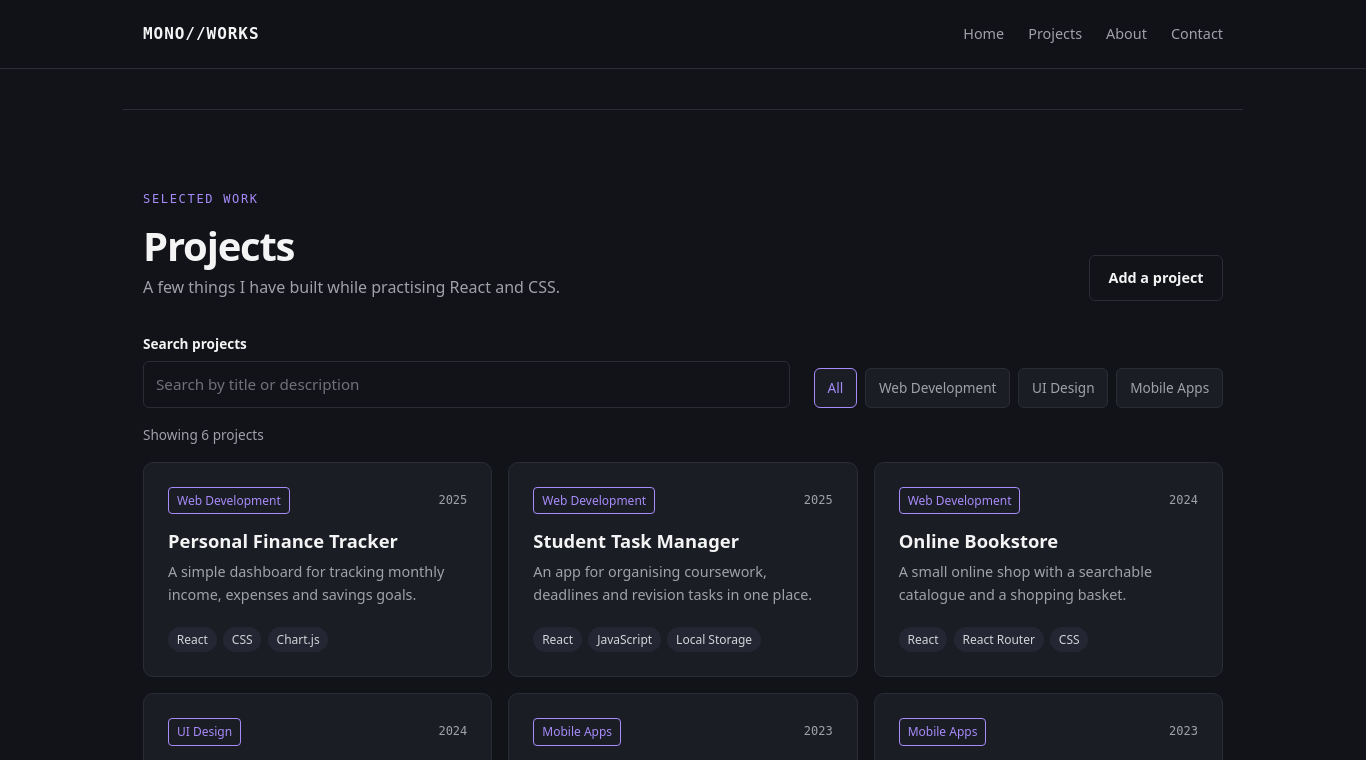
Test case: combines search and category filters and shows an empty state
The width and height of the screenshot is (1366, 760).
(page scrolled)
Type "recipe" into the search field labelled "Search projects" at (466, 384), box [143, 361, 790, 408]
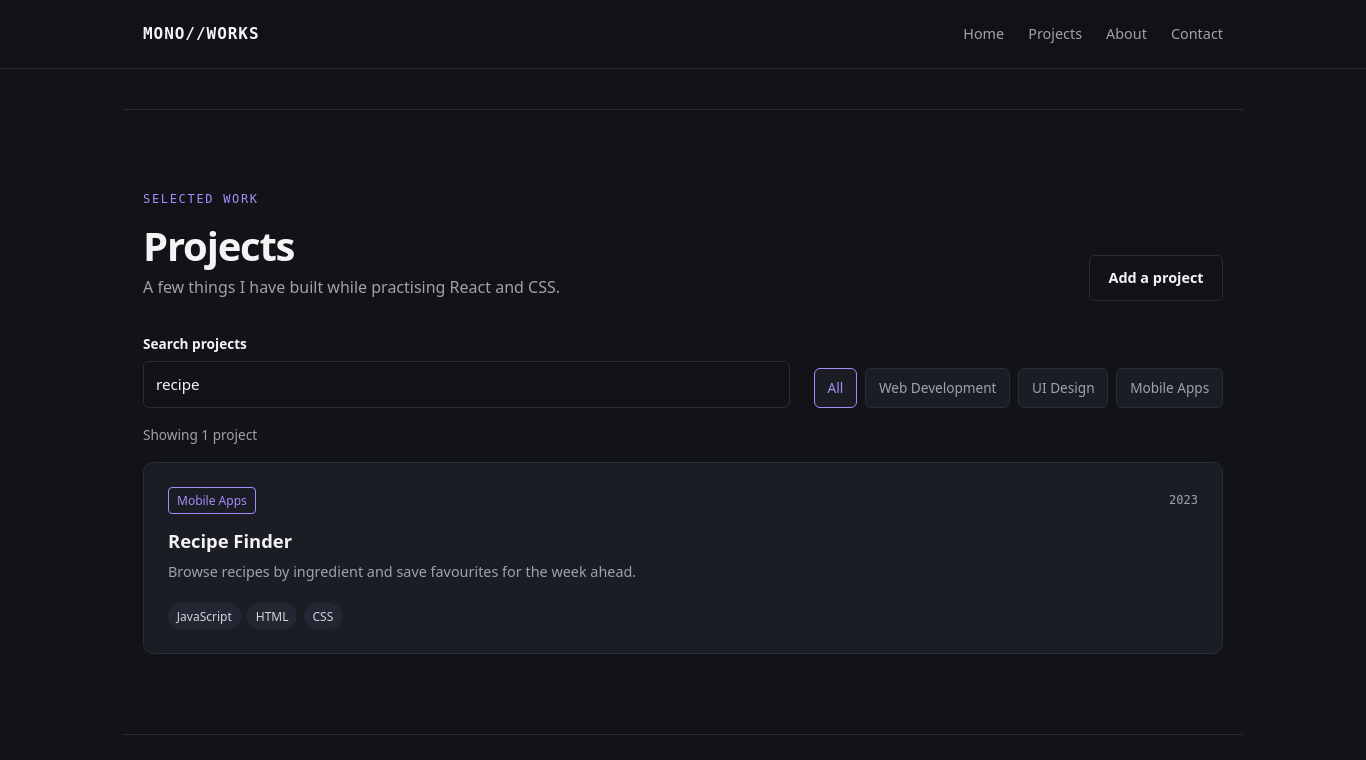
Expected: the heading "Recipe Finder" is shown, [168, 528, 292, 553]
Now the text "Showing 1 project" is shown, box [143, 425, 257, 444]
Click the button "UI Design" at (1063, 388), box [1018, 368, 1108, 408]
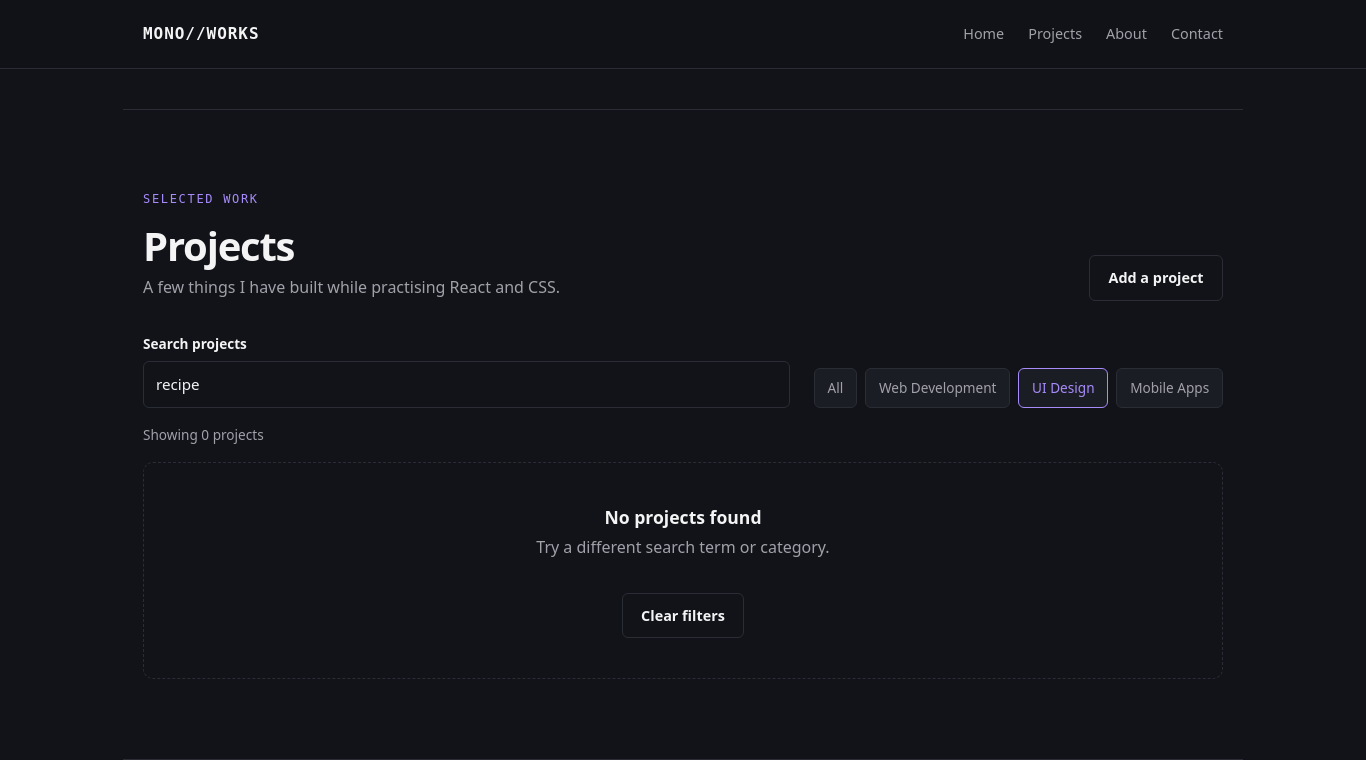
Now the text "No projects found" is shown, box [604, 505, 762, 529]
Click the button "Clear filters" at (683, 615), box [622, 592, 744, 638]
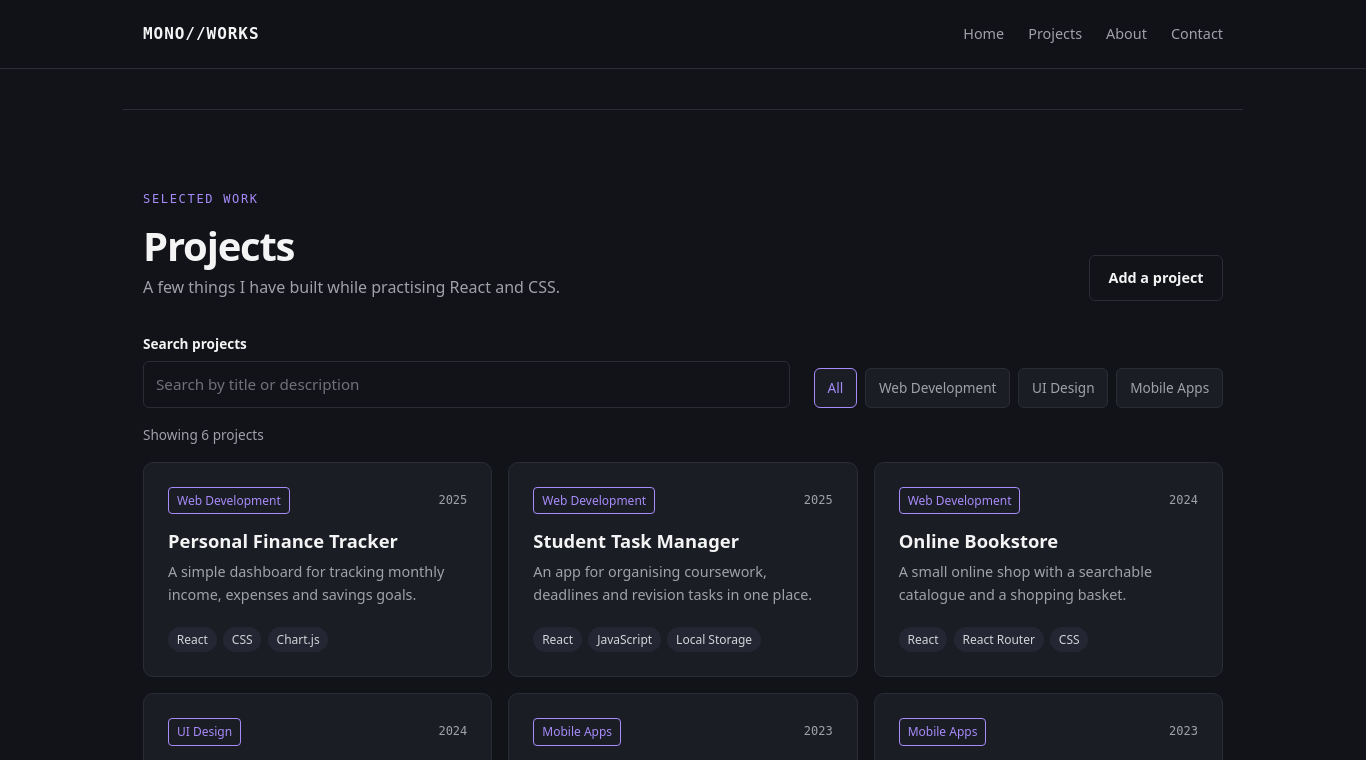
Now the text "Showing 6 projects" is shown, box [143, 425, 264, 444]
